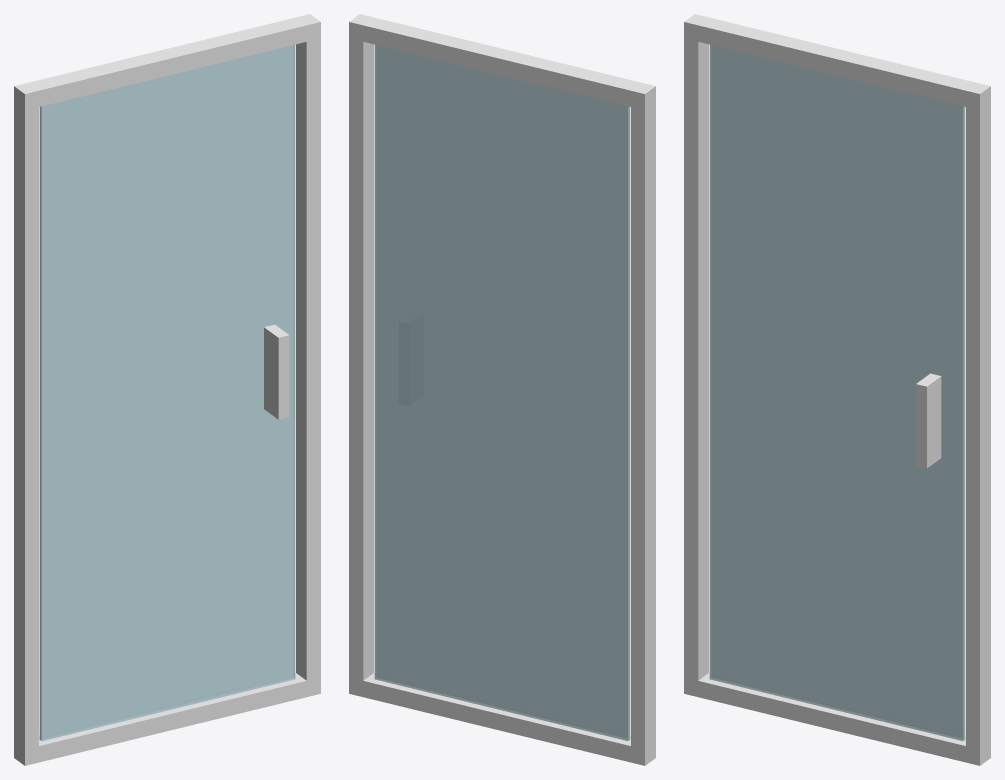
Rendered from puerta-blanco-esmerilado.glb.
The picture shows the model from 3 angles, left to right: view 1: azimuth 30°, elevation 25°; view 2: azimuth 150°, elevation 25°; view 3: azimuth 330°, elevation 25°; orthographic projection.
Parts seen in each view (by area): view 1: glass, post-0.45, post0.45, rail2.025, rail0.025, handle; view 2: glass, post-0.45, post0.45, rail2.025, rail0.025; view 3: glass, post0.45, post-0.45, rail2.025, rail0.025, handle.
Part boxes in pixels (x1,y1,x2,y2): glass: (39, 44, 295, 740); post-0.45: (14, 83, 38, 765); post0.45: (296, 14, 320, 696); rail2.025: (22, 17, 313, 107); rail0.025: (32, 673, 313, 763); handle: (264, 324, 289, 419); glass: (374, 44, 630, 740); post-0.45: (631, 83, 655, 765); post0.45: (349, 14, 373, 696); rail2.025: (356, 16, 648, 108); rail0.025: (356, 673, 637, 763); glass: (709, 44, 965, 740); post0.45: (966, 83, 990, 765); post-0.45: (684, 14, 708, 696); rail2.025: (691, 17, 982, 107); rail0.025: (691, 673, 972, 763); handle: (916, 373, 941, 468).
Bounding box in the file's own units: 0.945 × 2.05 × 0.12.
